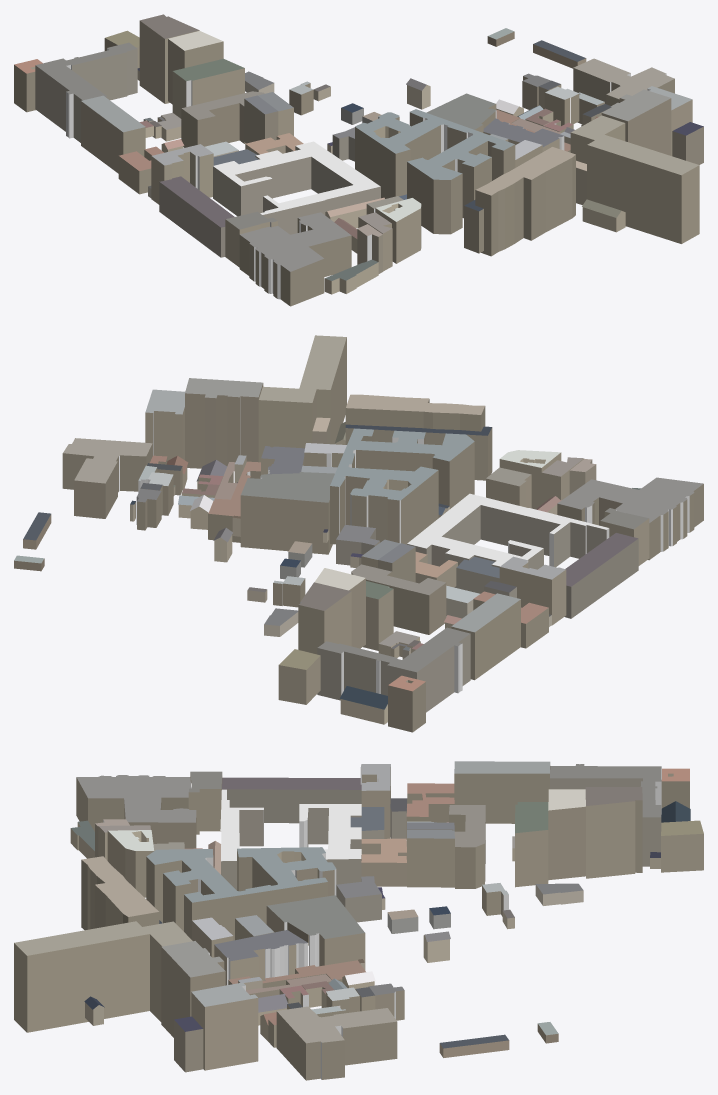
3 views of the same model, one above another, from view 1: azimuth 30°, elevation 25°; view 2: azimuth 150°, elevation 25°; view 3: azimuth 270°, elevation 25° (orthographic). The views are drawn at different scales.
Visible parts, largest first — view 1: tuile; view 2: tuile; view 3: tuile.
Part boxes in pixels (x1,y1,x2,y2): tuile: [14, 14, 703, 306]; tuile: [14, 335, 703, 732]; tuile: [14, 761, 703, 1080].
Bounding box in the file's own units: 264 × 41.77 × 288.
